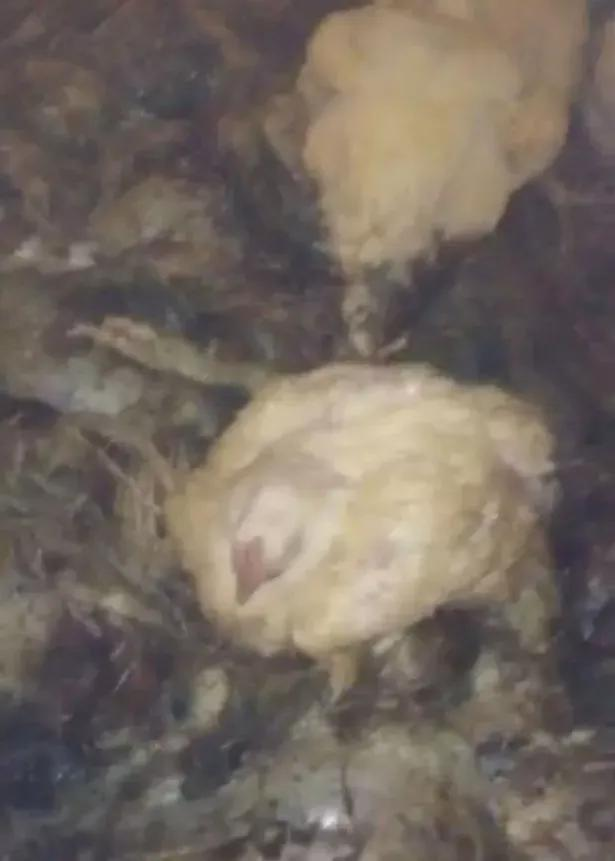AbNormal: (88, 315, 592, 660), (158, 0, 615, 352)
